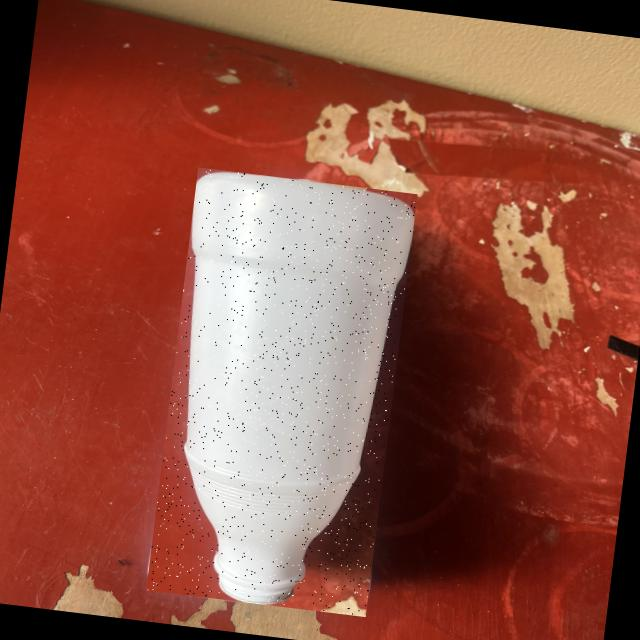HDPE_Bottle: (185, 172, 413, 602)
